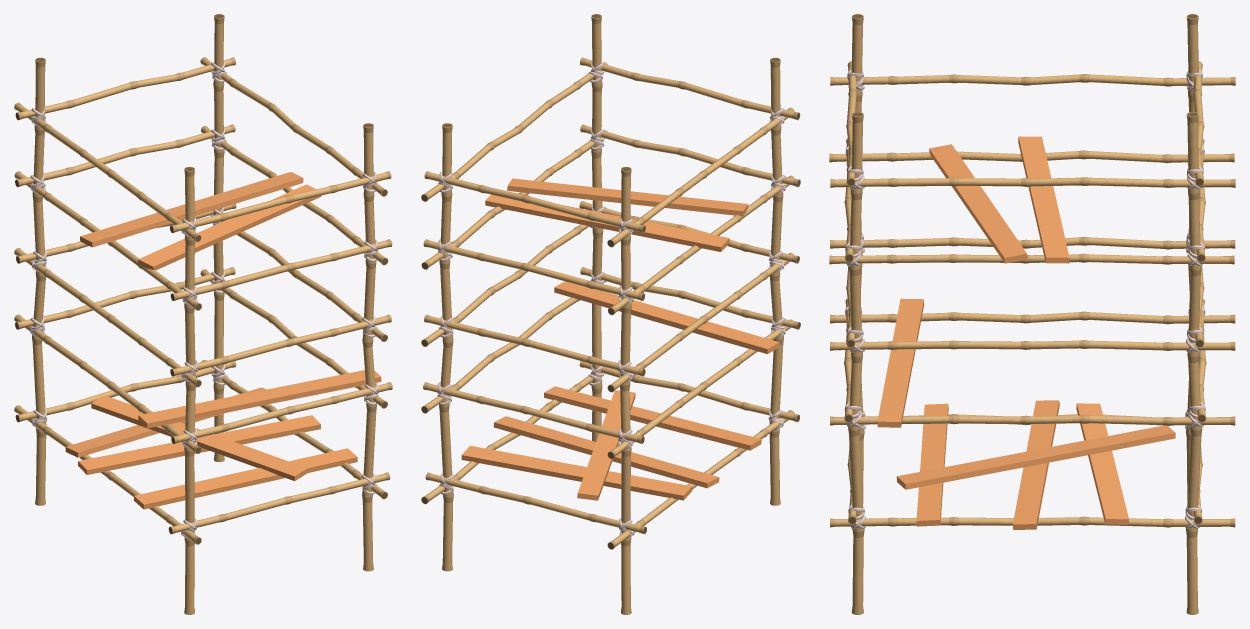
File: Scaffolding_With_Slats.fbx
The picture shows the model from 3 angles, left to right: view 1: azimuth 30°, elevation 25°; view 2: azimuth 150°, elevation 25°; view 3: azimuth 270°, elevation 25°; orthographic projection. The views are drawn at different scales.
Parts seen in each view (by area): view 1: Cylinder.012, Cylinder.000, Torus.021, Cube.006, Cube, Cube.007, Cube.003, Cube.005, Cube.008, Cube.004; view 2: Cylinder.012, Torus.021, Cylinder.000, Cube.004, Cube.006, Cube.008, Cube, Cube.007, Cube.003, Cube.005; view 3: Torus.021, Cylinder.000, Cylinder.012, Cube.005, Cube.008, Cube.007, Cube.006, Cube, Cube.004, Cube.003.
Boxes of the visible parts, bbox=[...] form: Cylinder.012: bbox=[15, 57, 392, 534]; Cylinder.000: bbox=[32, 14, 376, 614]; Torus.021: bbox=[14, 57, 388, 544]; Cube.006: bbox=[138, 370, 381, 428]; Cube: bbox=[78, 415, 320, 474]; Cube.007: bbox=[80, 172, 303, 247]; Cube.003: bbox=[133, 448, 357, 509]; Cube.005: bbox=[91, 395, 307, 481]; Cube.008: bbox=[138, 184, 321, 270]; Cube.004: bbox=[65, 387, 265, 457]; Cylinder.012: bbox=[423, 57, 800, 534]; Torus.021: bbox=[421, 62, 794, 549]; Cylinder.000: bbox=[439, 14, 783, 614]; Cube.004: bbox=[461, 445, 692, 500]; Cube.006: bbox=[554, 281, 779, 353]; Cube.008: bbox=[507, 178, 748, 216]; Cube: bbox=[493, 416, 719, 488]; Cube.007: bbox=[485, 194, 729, 251]; Cube.003: bbox=[544, 386, 761, 450]; Cube.005: bbox=[577, 390, 635, 500]; Torus.021: bbox=[829, 74, 1235, 528]; Cylinder.000: bbox=[848, 14, 1202, 614]; Cylinder.012: bbox=[844, 61, 1206, 524]; Cube.005: bbox=[896, 425, 1175, 489]; Cube.008: bbox=[929, 144, 1027, 263]; Cube.007: bbox=[1018, 136, 1069, 263]; Cube.006: bbox=[877, 298, 924, 427]; Cube: bbox=[1013, 400, 1059, 529]; Cube.004: bbox=[1076, 403, 1128, 524]; Cube.003: bbox=[916, 403, 948, 526].
Size of the model in its own units: 504 by 931 by 688.
